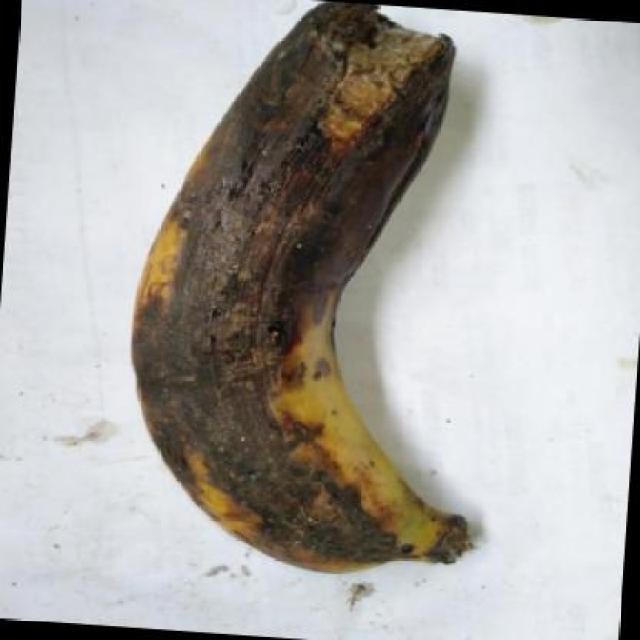Rotten: (120, 0, 504, 572)
